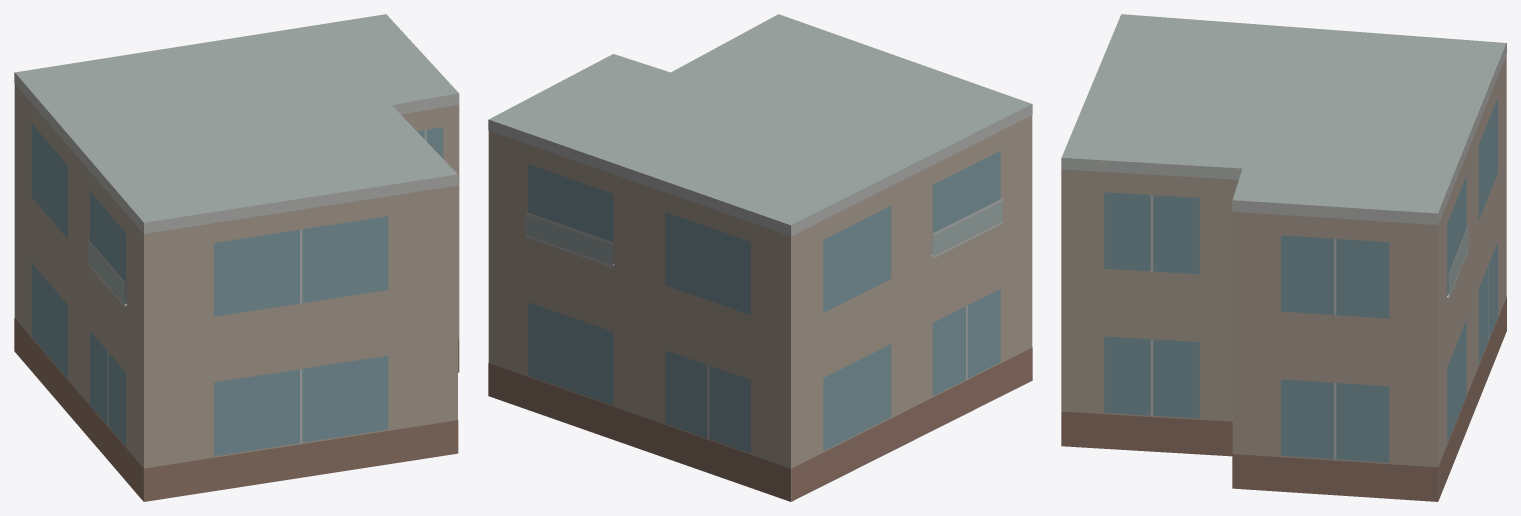
File: survey-upis-32982715.glb
3 views of the same model, side by side, from view 1: azimuth 30°, elevation 25°; view 2: azimuth 150°, elevation 25°; view 3: azimuth 270°, elevation 25° (orthographic). The views are drawn at different scales.
Parts seen in each view (by area): view 1: survey-upis-32982715.tmp; view 2: survey-upis-32982715.tmp; view 3: survey-upis-32982715.tmp.
Part boxes in pixels (bbox=[...]): survey-upis-32982715.tmp: bbox=[14, 14, 459, 501]; survey-upis-32982715.tmp: bbox=[488, 14, 1032, 501]; survey-upis-32982715.tmp: bbox=[1061, 14, 1506, 501].
Bounding box in the file's own units: 9.06 × 6.1 × 8.55.
